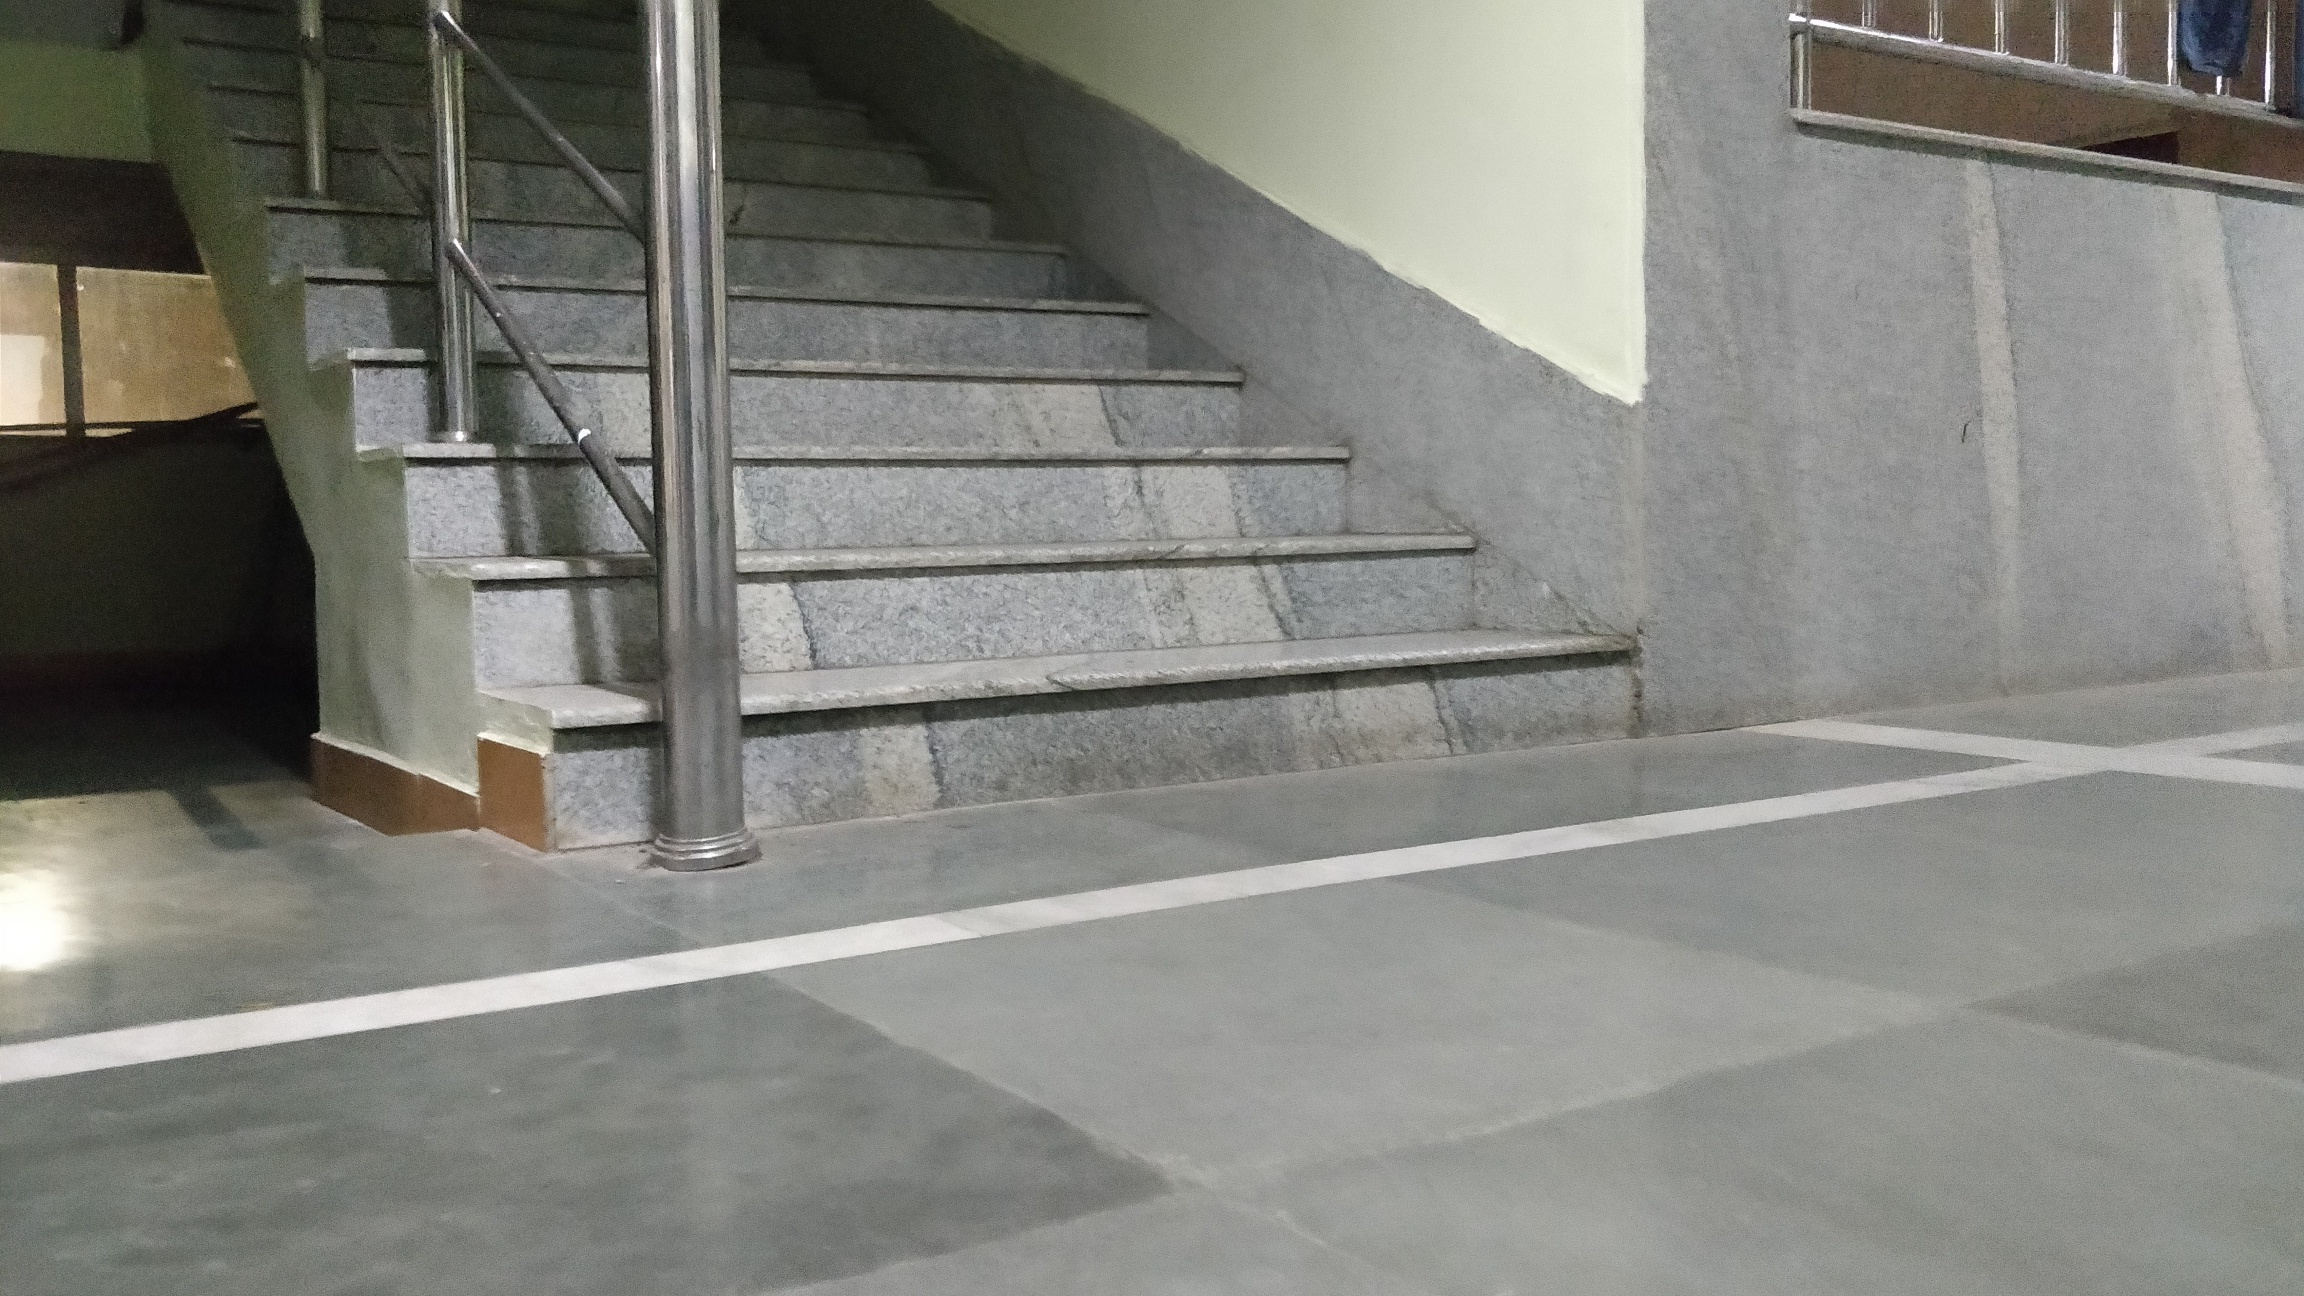stairs_up: (252, 16, 1639, 788)
